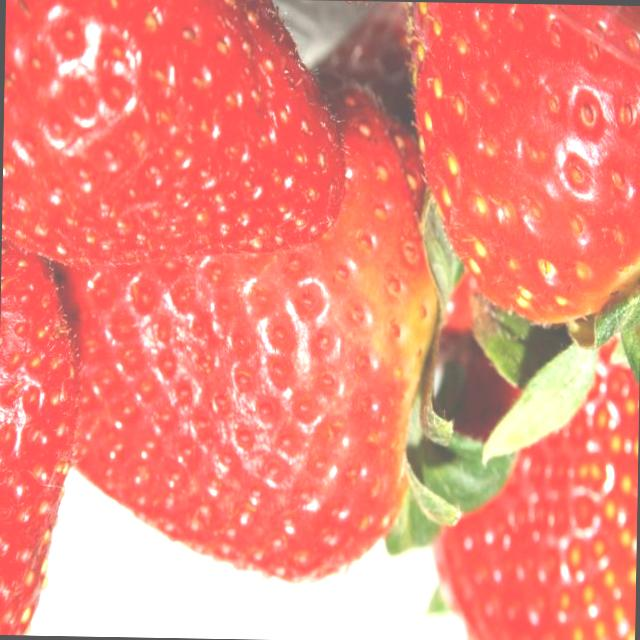Strawberry: (58, 75, 447, 591), (0, 0, 349, 274), (399, 3, 640, 336), (423, 324, 639, 640), (0, 236, 83, 635)
